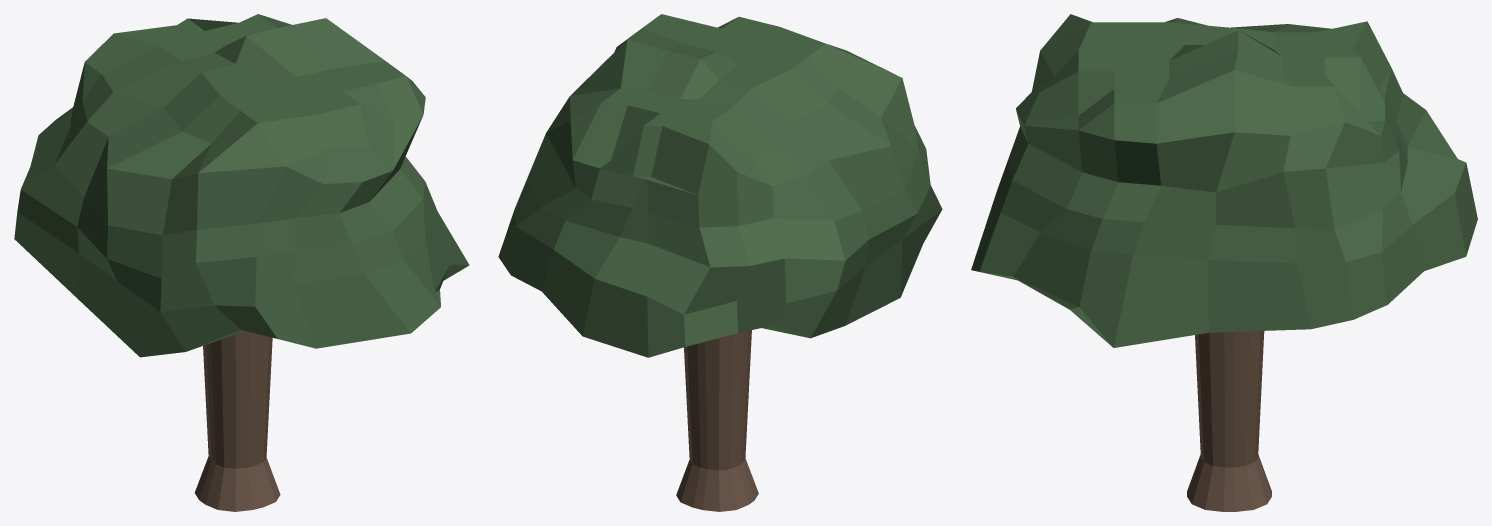
Rendered from TreeOak.fbx.
The picture shows the model from 3 angles, left to right: view 1: azimuth 30°, elevation 25°; view 2: azimuth 150°, elevation 25°; view 3: azimuth 270°, elevation 25°; orthographic projection. The views are drawn at different scales.
Visible parts, largest first — view 1: OakTree; view 2: OakTree; view 3: OakTree.
Boxes of the visible parts, bbox=[...] form: OakTree: bbox=[14, 14, 469, 511]; OakTree: bbox=[498, 14, 942, 511]; OakTree: bbox=[971, 14, 1477, 511].
Bounding box in the file's own units: 3919 × 4817 × 4705.
